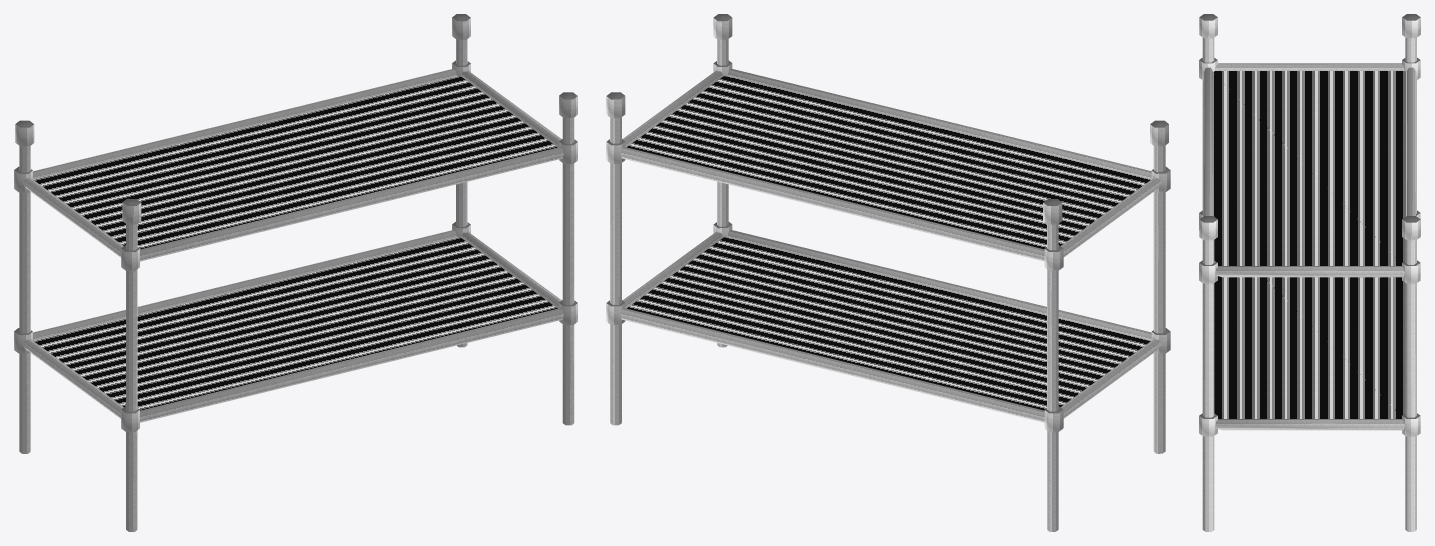
The model's file is metal_rack_stackable_small.glb.
3 views of the same model, side by side, from view 1: azimuth 30°, elevation 25°; view 2: azimuth 150°, elevation 25°; view 3: azimuth 270°, elevation 25° (orthographic). The views are drawn at different scales.
Parts seen in each view (by area): view 1: metal_rack_stackable_small_rack.001, metal_rack_stackablea_small_rack, metal_rack_stackable_small_shelf.001, metal_rack_stackable_small_shelf, metal_rack_stackable_small; view 2: metal_rack_stackable_small_rack.001, metal_rack_stackablea_small_rack, metal_rack_stackable_small_shelf.001, metal_rack_stackable_small_shelf, metal_rack_stackable_small; view 3: metal_rack_stackable_small_rack.001, metal_rack_stackablea_small_rack, metal_rack_stackable_small, metal_rack_stackable_small_shelf.001, metal_rack_stackable_small_shelf.
Boxes of the visible parts, bbox=[...] form: metal_rack_stackable_small_rack.001: bbox=[33, 76, 557, 249]; metal_rack_stackablea_small_rack: bbox=[34, 237, 557, 410]; metal_rack_stackable_small_shelf.001: bbox=[14, 60, 577, 270]; metal_rack_stackable_small_shelf: bbox=[14, 222, 577, 431]; metal_rack_stackable_small: bbox=[15, 14, 577, 531]; metal_rack_stackable_small_rack.001: bbox=[627, 76, 1150, 249]; metal_rack_stackablea_small_rack: bbox=[627, 237, 1150, 410]; metal_rack_stackable_small_shelf.001: bbox=[606, 60, 1170, 270]; metal_rack_stackable_small_shelf: bbox=[606, 222, 1170, 431]; metal_rack_stackable_small: bbox=[606, 14, 1168, 531]; metal_rack_stackable_small_rack.001: bbox=[1213, 71, 1406, 265]; metal_rack_stackablea_small_rack: bbox=[1214, 276, 1405, 418]; metal_rack_stackable_small: bbox=[1199, 14, 1420, 531]; metal_rack_stackable_small_shelf.001: bbox=[1199, 57, 1420, 283]; metal_rack_stackable_small_shelf: bbox=[1199, 210, 1420, 436].
Size of the model in its own units: 1.31 by 0.9076 by 0.5874.
1 material, 1 textured.
